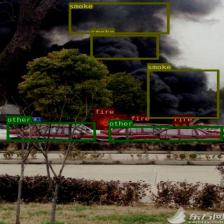fire: (94, 114, 126, 128), (172, 122, 188, 128), (130, 121, 133, 123)
smoke: (146, 69, 218, 118), (68, 2, 169, 34), (90, 34, 158, 59)
